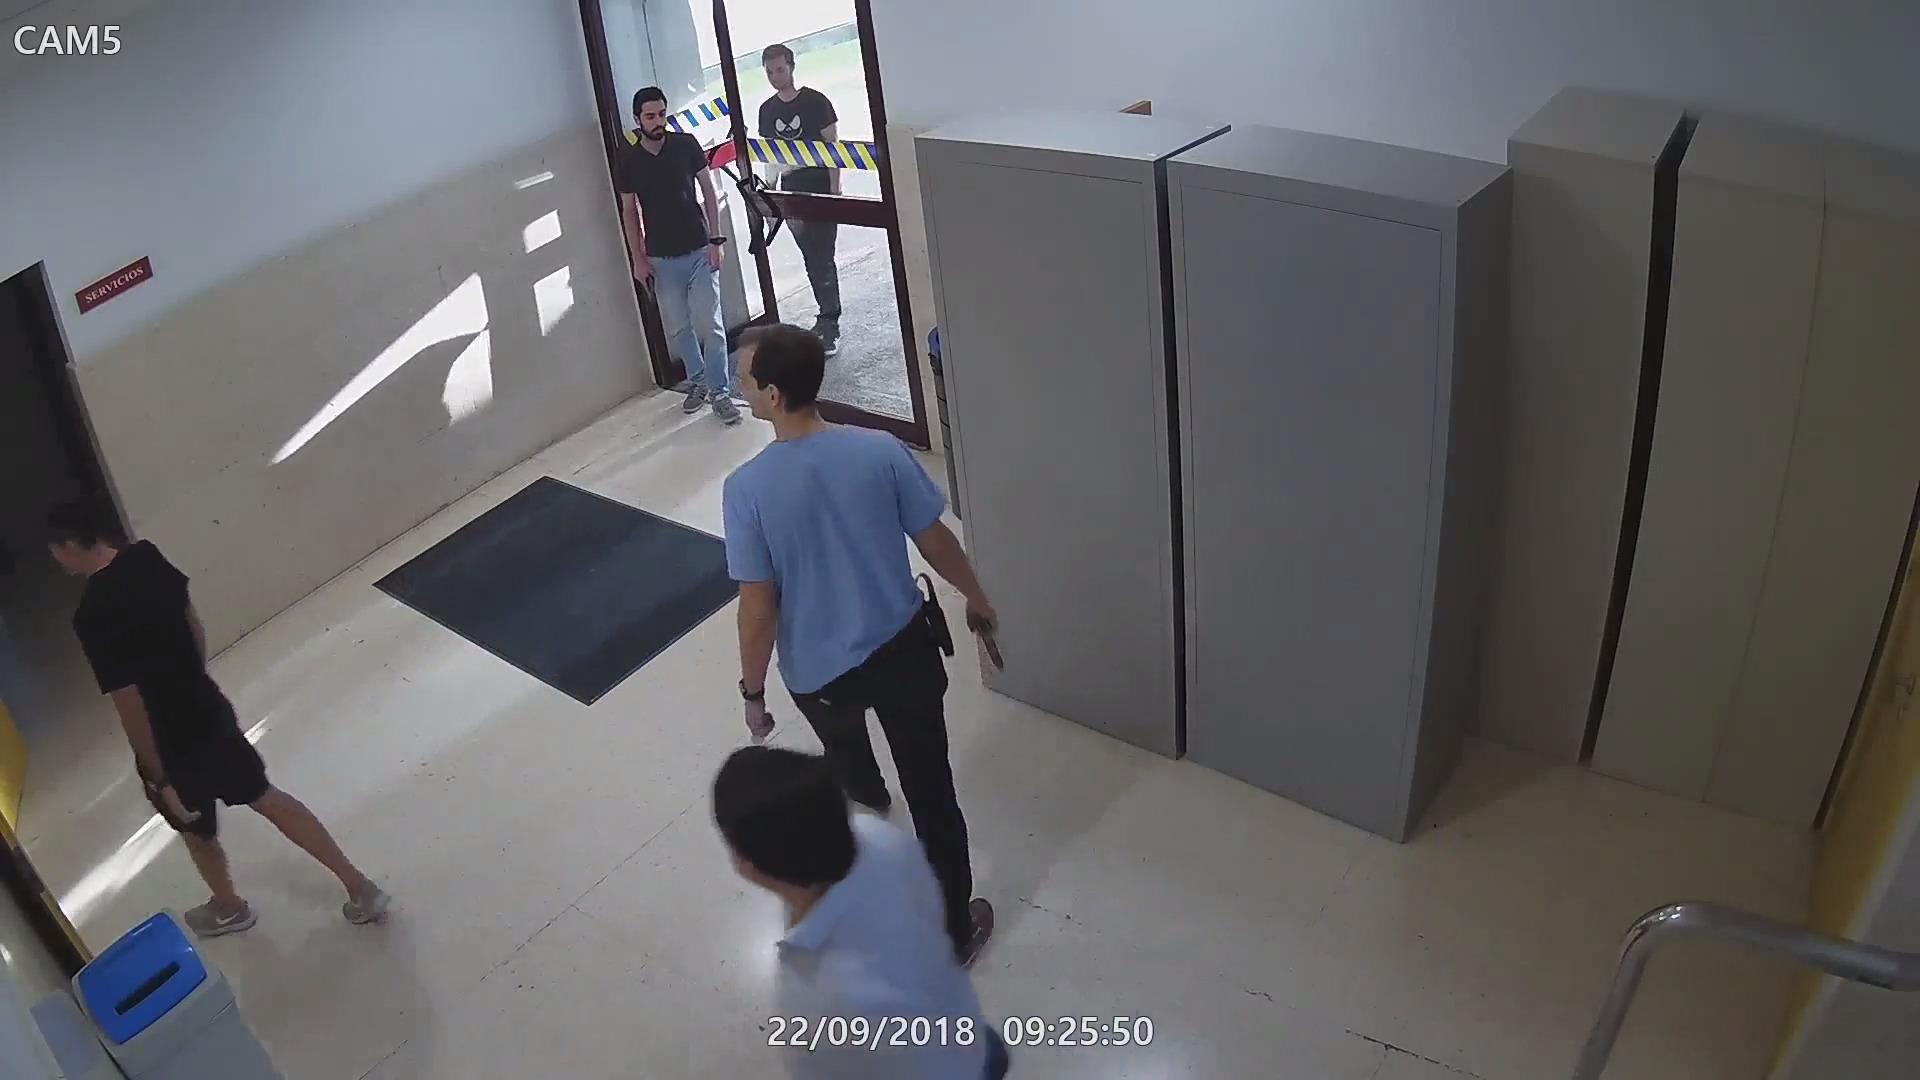Handgun: (957, 582, 1005, 663), (626, 253, 665, 309)
